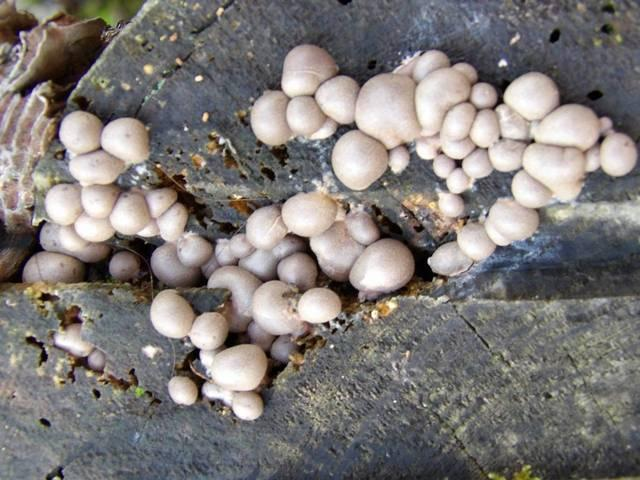poisonous_mushroom: (21, 38, 638, 420), (248, 41, 638, 276), (148, 189, 415, 421), (25, 108, 189, 281), (347, 237, 415, 300), (330, 128, 388, 191), (280, 42, 339, 97), (209, 342, 268, 391), (99, 115, 150, 165), (249, 89, 292, 146), (148, 287, 194, 339), (57, 109, 102, 155), (295, 286, 342, 324)
